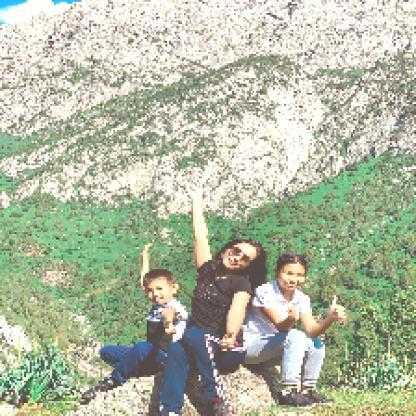child: (83, 242, 189, 402)
